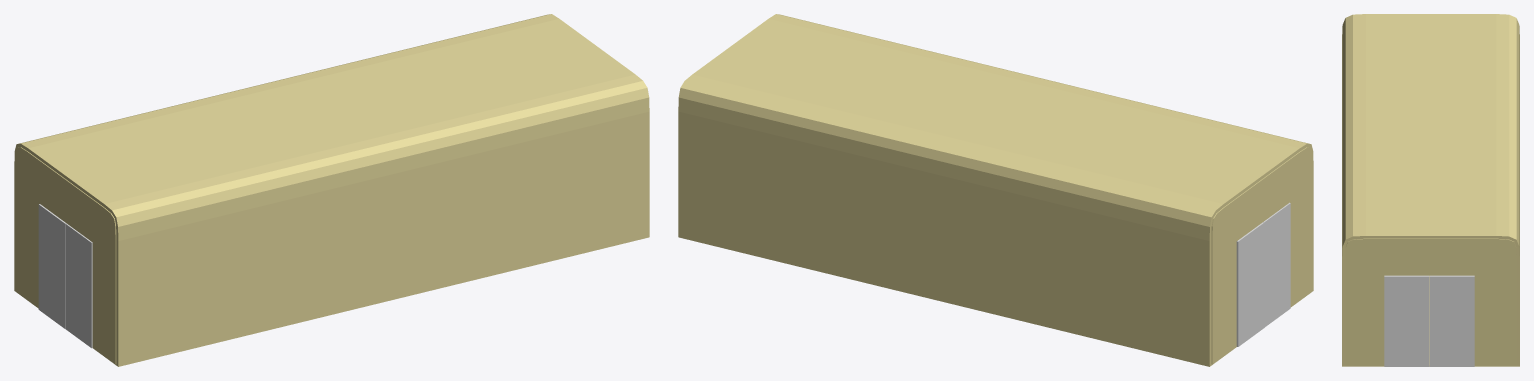
Rendered from train full.fbx.
3 renders of one model, left to right at view 1: azimuth 30°, elevation 25°; view 2: azimuth 150°, elevation 25°; view 3: azimuth 270°, elevation 25°, orthographic. The views are drawn at different scales.
Parts seen in each view (by area): view 1: Cube, frontdoor, frontdoor2; view 2: Cube, frontdoor, frontdoor2; view 3: Cube, backdoor, backdoor2.
Part boxes in pixels (x1=…): Cube: x1=14, y1=14, x2=649, y2=366; frontdoor: x1=38, y1=204, x2=65, y2=328; frontdoor2: x1=65, y1=223, x2=92, y2=348; Cube: x1=678, y1=14, x2=1313, y2=366; frontdoor: x1=1236, y1=222, x2=1264, y2=346; frontdoor2: x1=1263, y1=202, x2=1290, y2=327; Cube: x1=1342, y1=14, x2=1519, y2=366; backdoor: x1=1429, y1=275, x2=1474, y2=366; backdoor2: x1=1384, y1=275, x2=1429, y2=366.
Bounding box in the file's own units: 4659 × 1267 × 1563.
